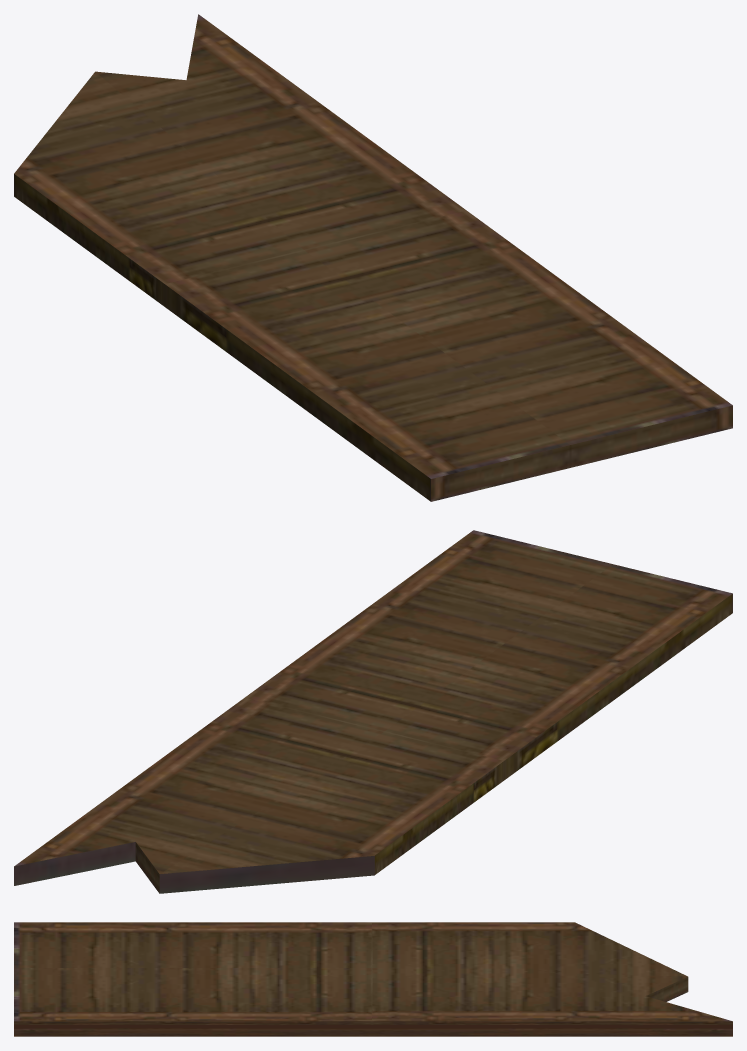
Rendered from Yland1_bj_19 Yland1.FBX.
The picture shows the model from 3 angles, top to bottom: view 1: azimuth 30°, elevation 25°; view 2: azimuth 150°, elevation 25°; view 3: azimuth 270°, elevation 25°; orthographic projection. The views are drawn at different scales.
Visible parts, largest first — view 1: Yland1_bj_19 Yland1; view 2: Yland1_bj_19 Yland1; view 3: Yland1_bj_19 Yland1.
Part boxes in pixels (box(x1,y1,x2,y2)): Yland1_bj_19 Yland1: box(14, 14, 732, 501); Yland1_bj_19 Yland1: box(14, 530, 732, 893); Yland1_bj_19 Yland1: box(14, 922, 732, 1036).
Size of the model in its own units: 1.03 by 0.0743 by 3.15.
